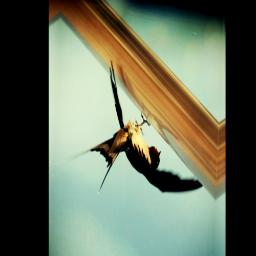Swallow: (66, 54, 210, 211)
